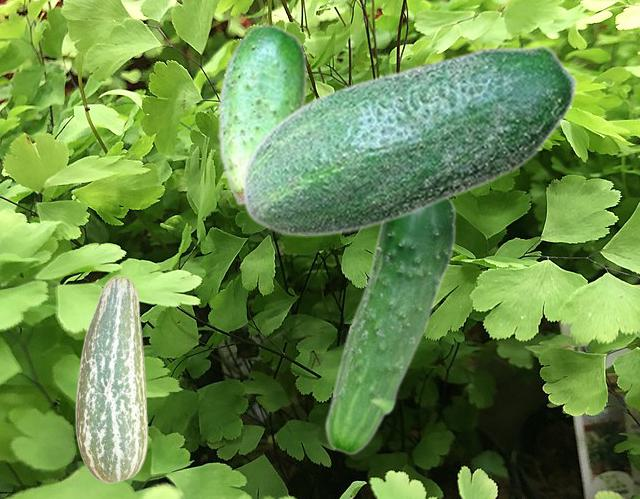cucumber: (241, 44, 578, 236), (323, 199, 456, 454), (217, 23, 306, 205), (75, 275, 147, 482)
